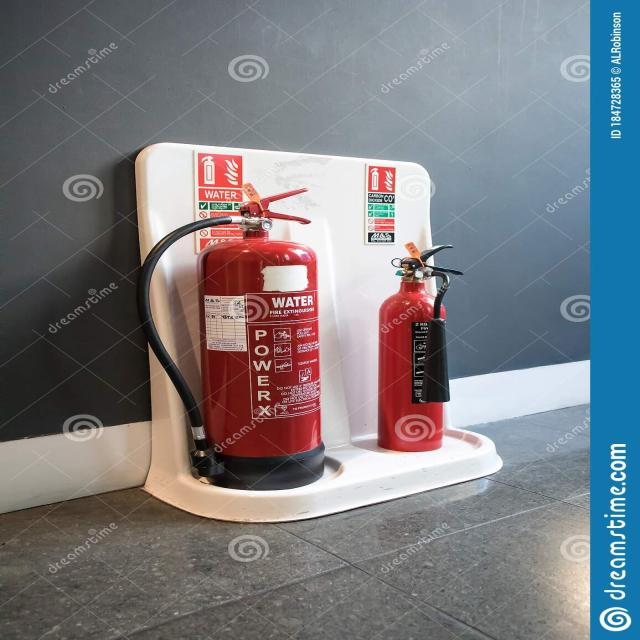fire_extinguisher: (133, 180, 331, 492), (366, 239, 468, 458)
